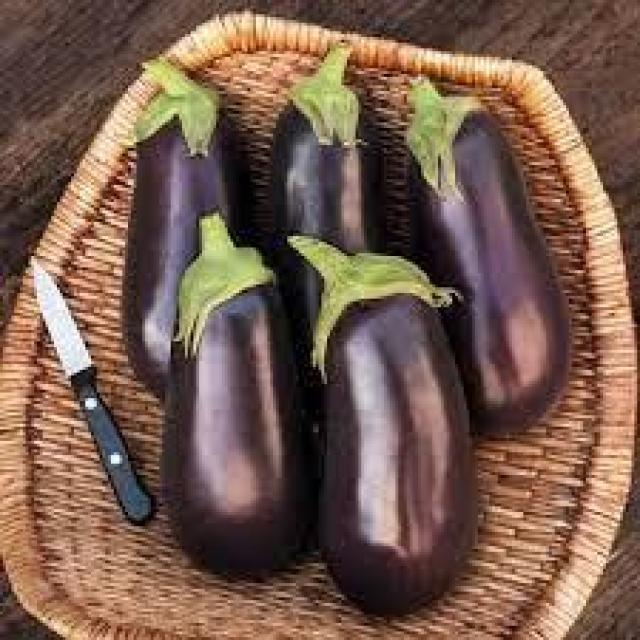eggplant: (287, 236, 477, 618), (159, 209, 323, 576), (406, 75, 572, 432), (120, 55, 256, 404), (269, 39, 390, 404)
